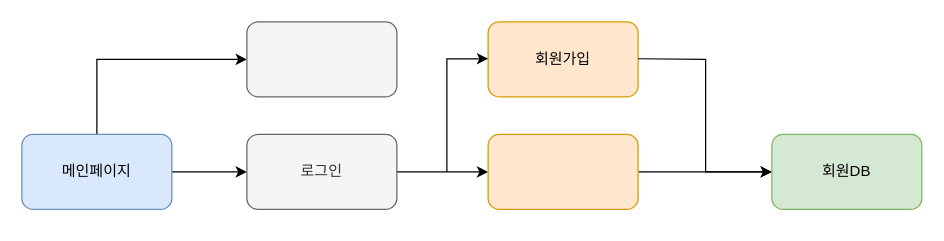
The diagram is 944 pixels wide and 241 high, and some of its shapes have lost their labels. Here are the shapes that lost their labels. From the top down, the centre of each, then its label:
At pixel 321 59: "출석체크".
At pixel 562 171: "ID/PW 찾기".
